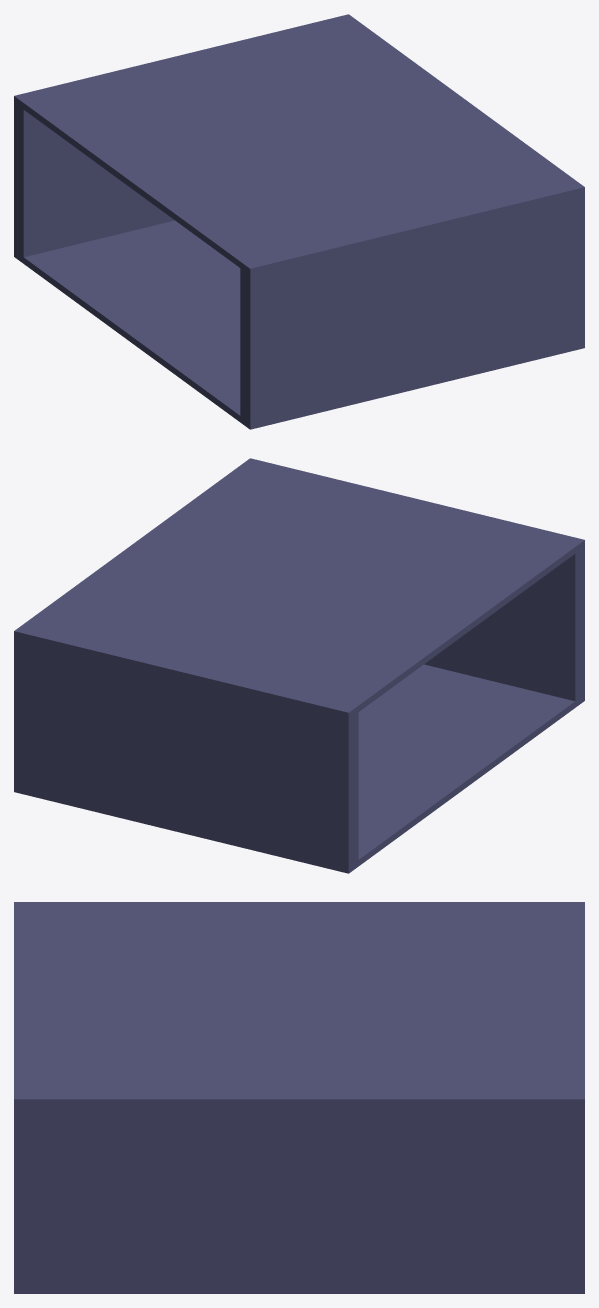
Rendered from eevveetv2.gltf.
The picture shows the model from 3 angles, top to bottom: view 1: azimuth 30°, elevation 25°; view 2: azimuth 150°, elevation 25°; view 3: azimuth 270°, elevation 25°; orthographic projection. The views are drawn at different scales.
Parts seen in each view (by area): view 1: Cube; view 2: Cube; view 3: Cube.
Boxes of the visible parts, x1,y1,x2,y2 form: Cube: [14, 14, 584, 429]; Cube: [14, 458, 584, 873]; Cube: [14, 902, 584, 1293].
Bounding box in the file's own units: 7.68 × 3.53 × 9.38.
